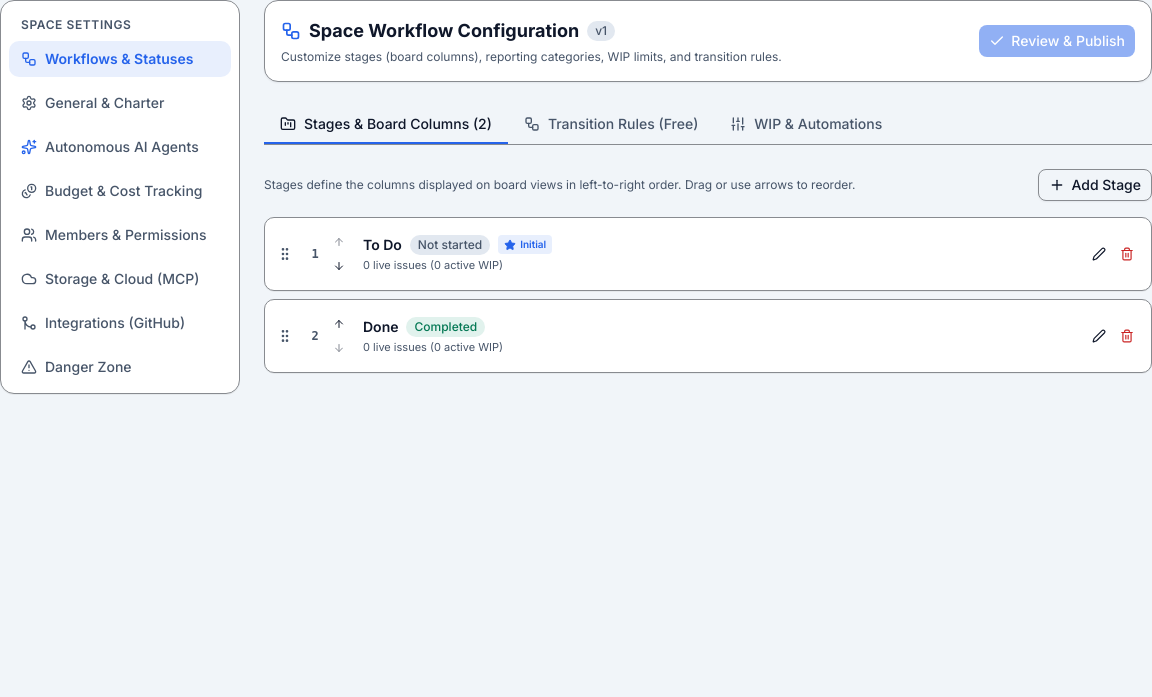
Test case: <SpaceSettings> › Members & Permissions Section › allows inviting a new team member
Click the button "Members & Permissions" at (120, 235), box [9,217,231,253]
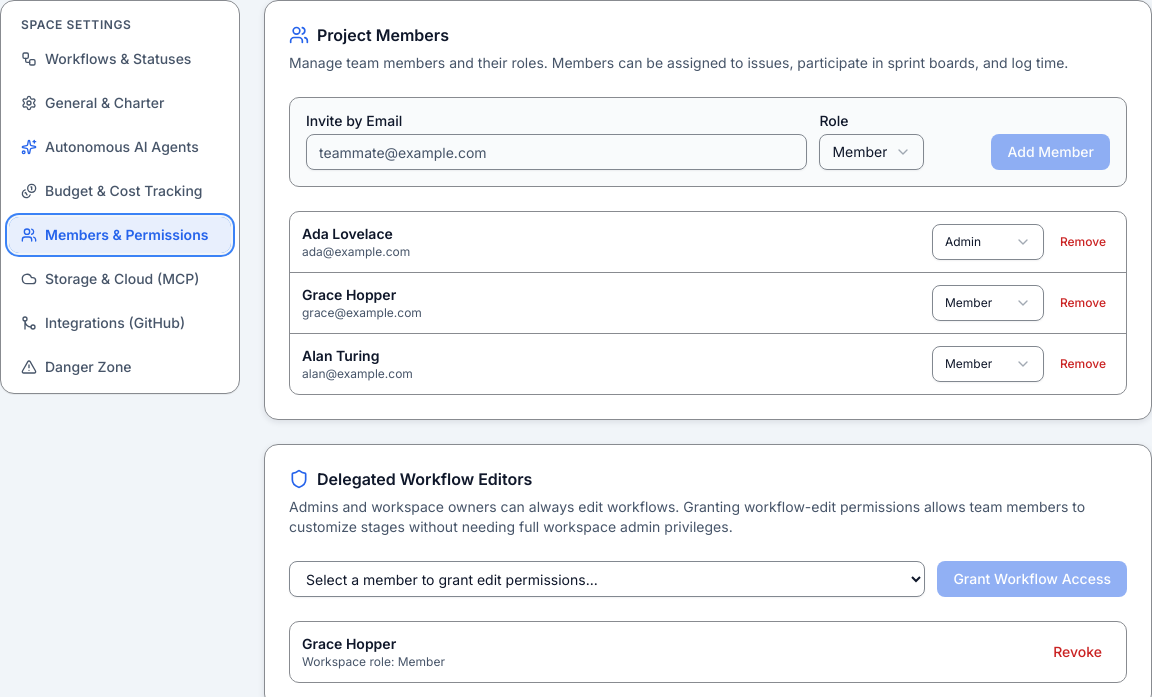
Type "newuser@example.com" into the field labelled "Invite by Email" at (557, 152), box [306,134,807,170]
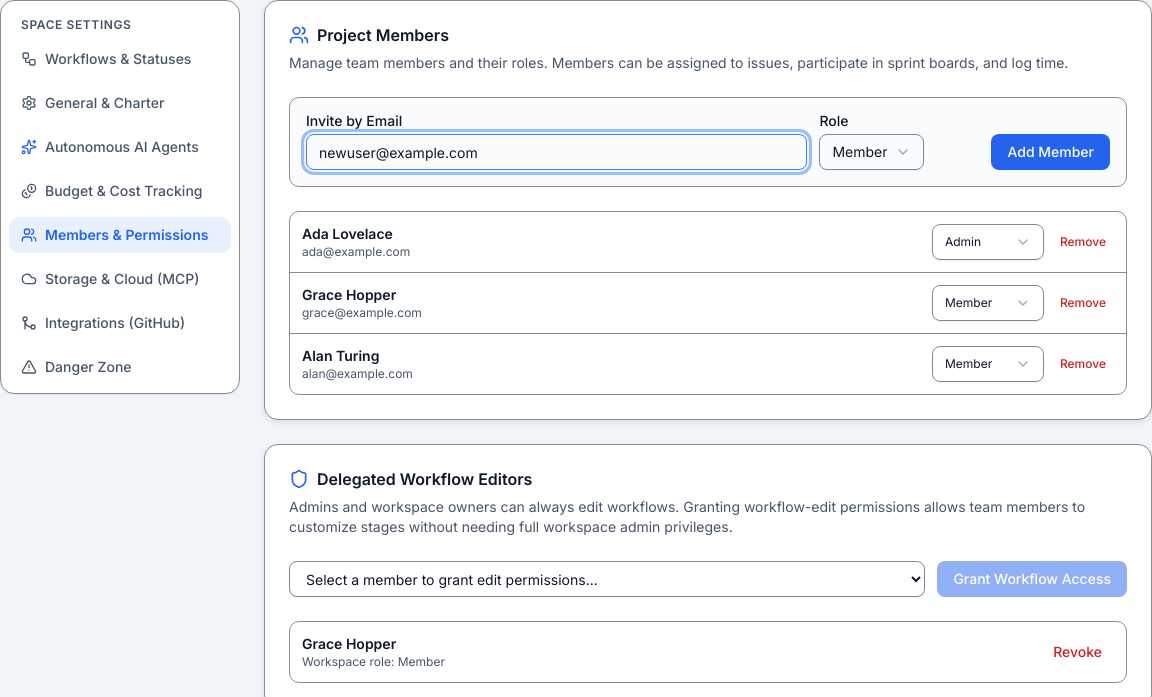
Click the button "Add Member" at (1051, 152), box [991,134,1110,170]
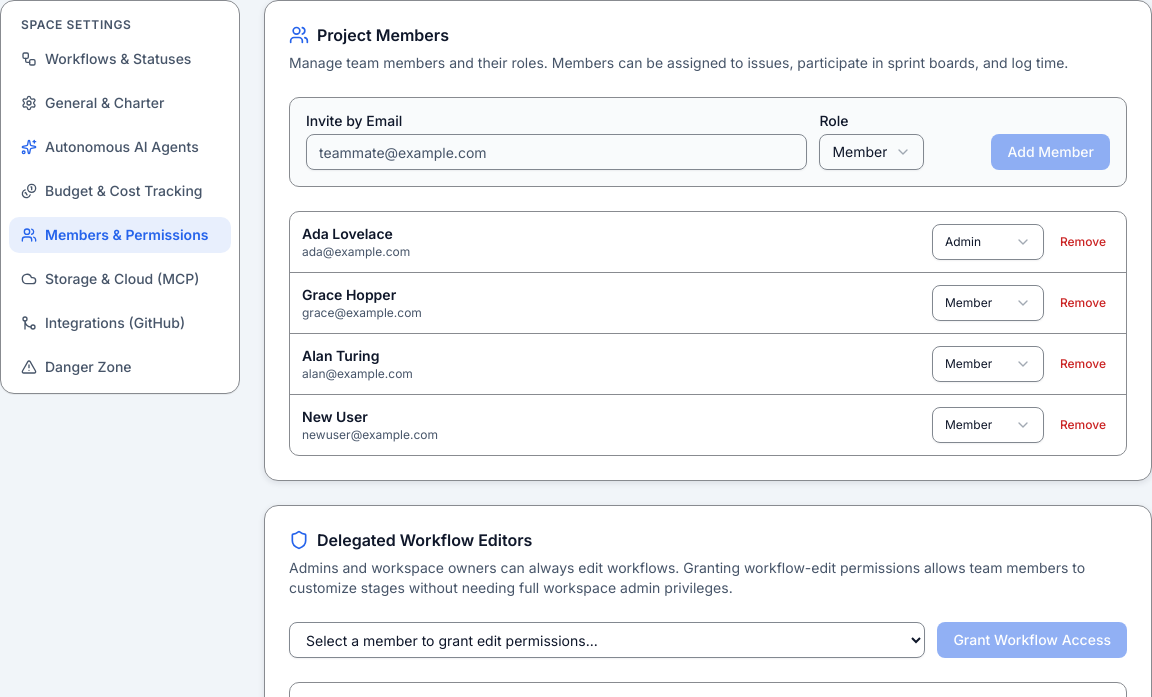
Check: the text "New User" is shown, box [302,408,368,425]
